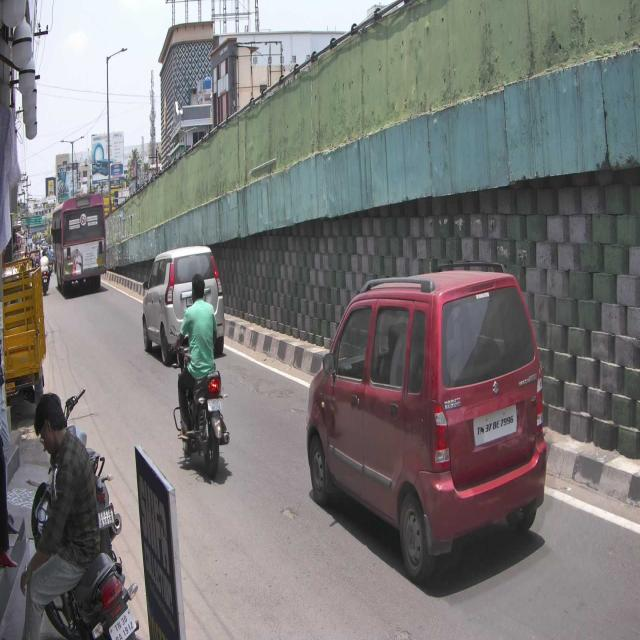single_rider: (169, 272, 230, 480)
